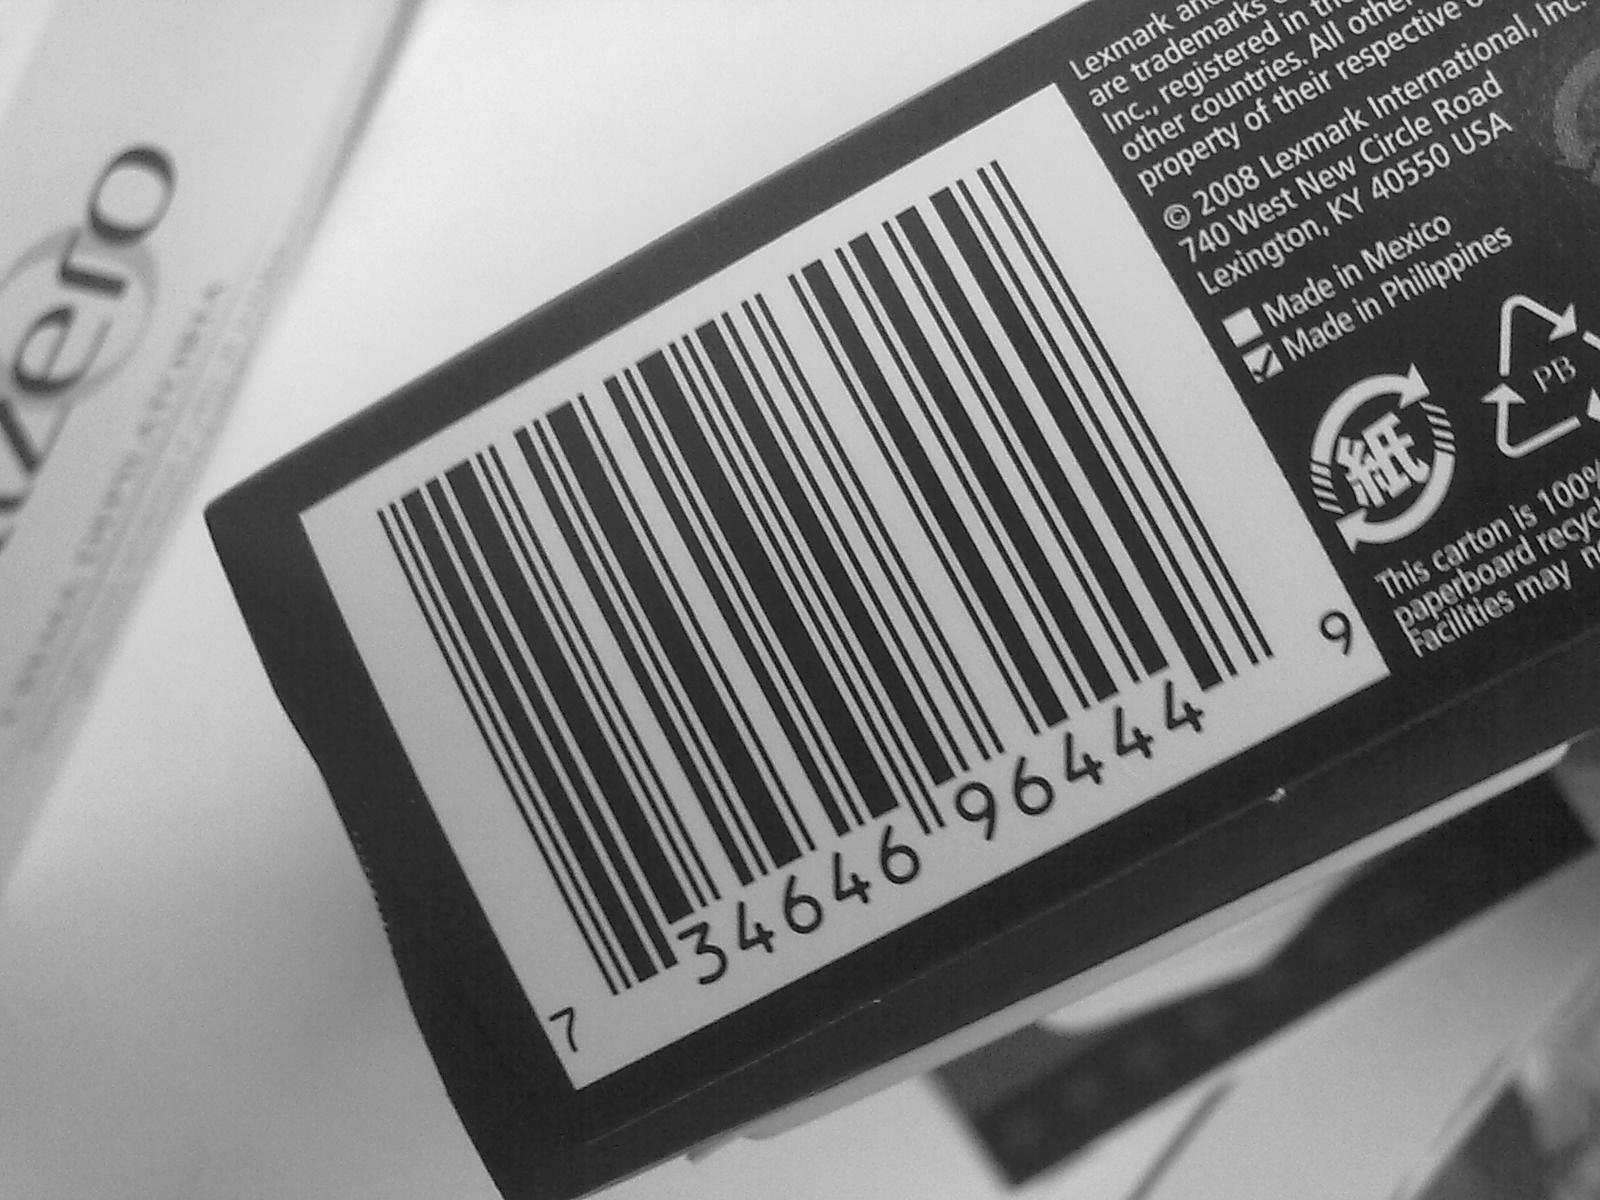Barcode: (364, 89, 1314, 1026)
